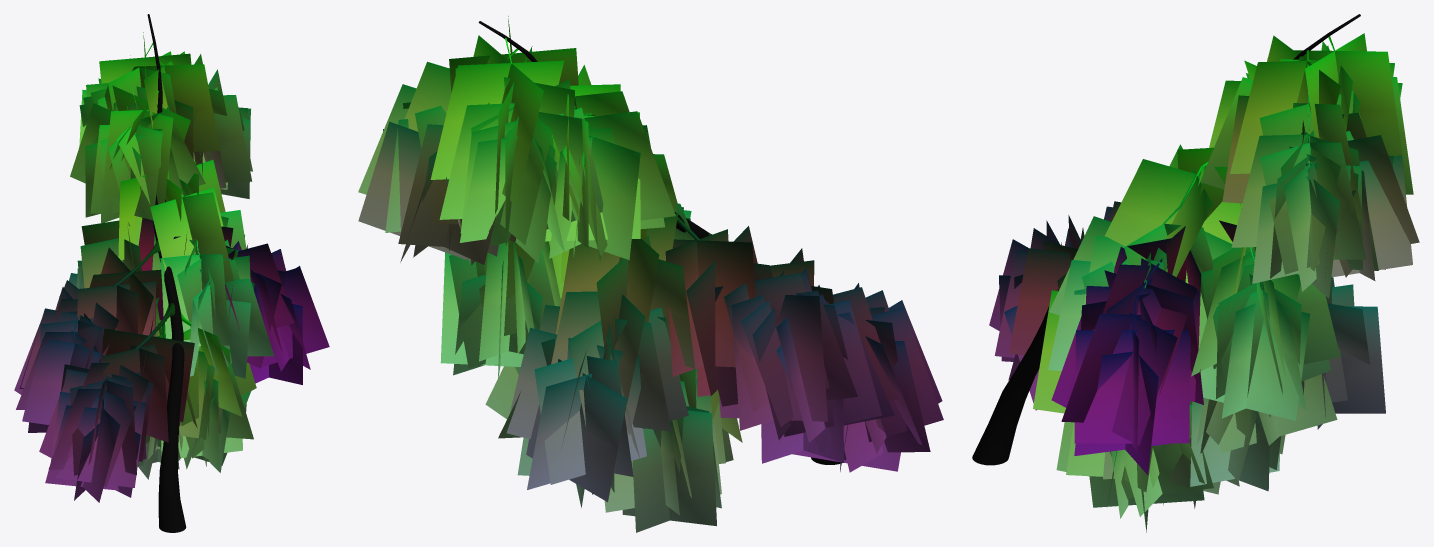
The model's file is URP_P13_Tree_3_LOD_0.fbx.
The picture shows the model from 3 angles, left to right: view 1: azimuth 30°, elevation 25°; view 2: azimuth 150°, elevation 25°; view 3: azimuth 270°, elevation 25°; orthographic projection. The views are drawn at different scales.
Visible parts, largest first — view 1: Tree_3_LOD_0; view 2: Tree_3_LOD_0; view 3: Tree_3_LOD_0.
Part boxes in pixels (left/top/right/bottom): Tree_3_LOD_0: left=14, top=14, right=329, bottom=532; Tree_3_LOD_0: left=358, top=16, right=943, bottom=532; Tree_3_LOD_0: left=972, top=14, right=1419, bottom=532.
Bounding box in the file's own units: 433 × 527 × 409.
